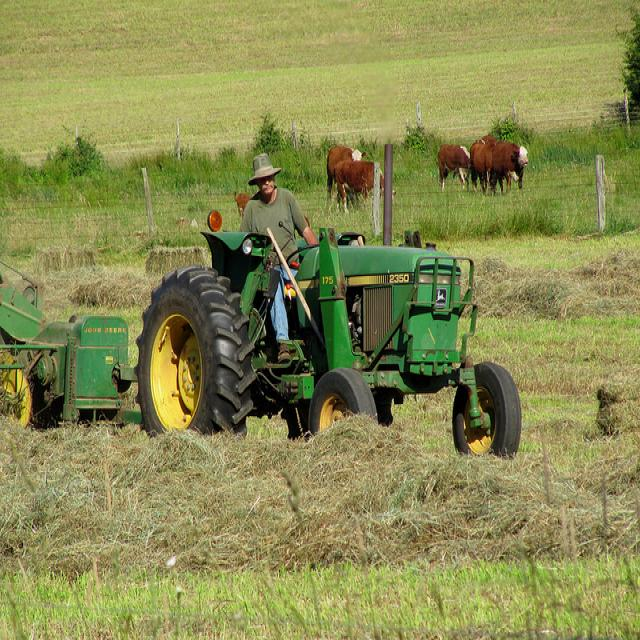Vehicle: (2, 140, 523, 460)
